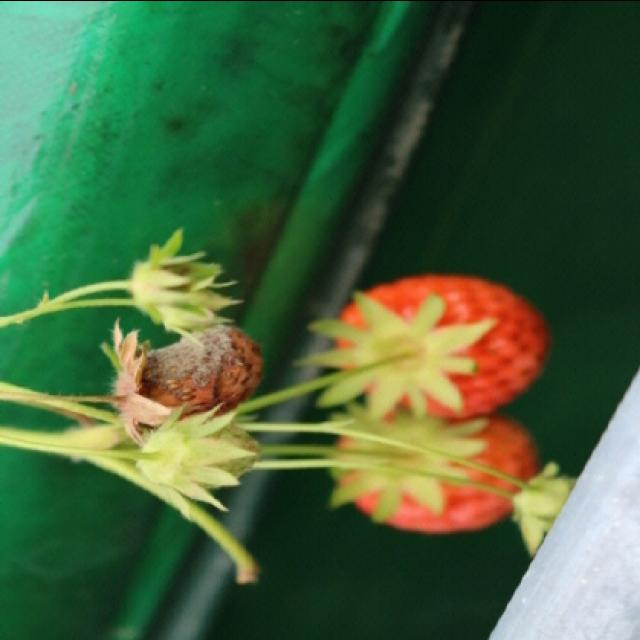Gray Mold: (103, 315, 263, 450)
